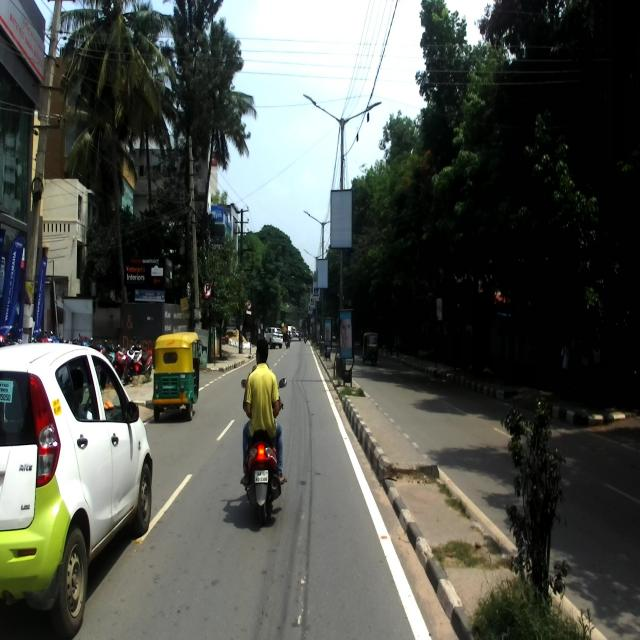Car_Maruti-Suzuki: (0, 340, 153, 638)
autorickshaw: (152, 331, 201, 422)
scooter: (240, 376, 286, 525)
